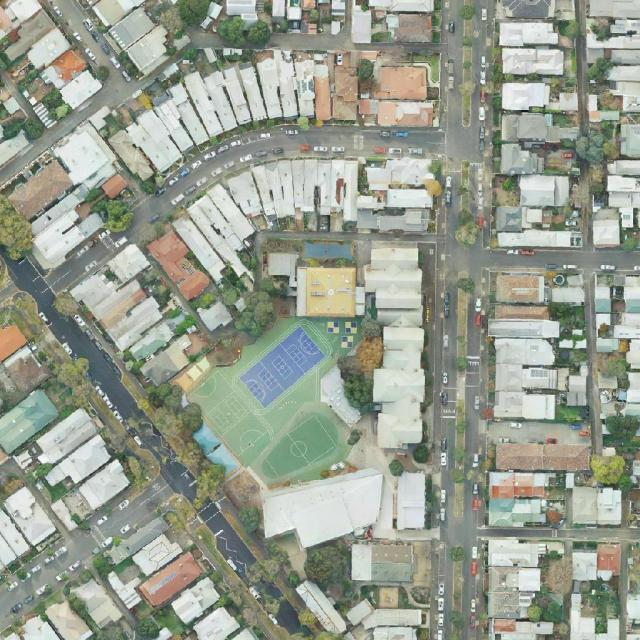building: (106, 29, 338, 182), (167, 131, 380, 289), (69, 252, 183, 370), (363, 241, 427, 448), (255, 465, 395, 557), (0, 0, 105, 120), (31, 431, 136, 533), (486, 304, 560, 419), (487, 469, 622, 528), (85, 0, 181, 81), (266, 240, 365, 317), (484, 536, 554, 640), (595, 271, 640, 418), (508, 173, 587, 249), (146, 227, 215, 304), (28, 406, 99, 470), (137, 550, 205, 611), (357, 158, 436, 210), (310, 365, 364, 434), (501, 112, 560, 174), (294, 576, 350, 640), (140, 332, 200, 390), (0, 325, 51, 393), (375, 66, 432, 126), (71, 575, 124, 632), (167, 573, 223, 626), (106, 127, 157, 185), (315, 54, 359, 121), (130, 530, 183, 578), (496, 444, 590, 471), (104, 561, 150, 610), (571, 594, 620, 640), (105, 241, 152, 287), (572, 544, 620, 581), (356, 210, 429, 234), (501, 49, 565, 76), (396, 472, 425, 530), (498, 20, 559, 46), (496, 274, 545, 303), (197, 297, 234, 334), (25, 87, 56, 130), (351, 541, 384, 581), (503, 82, 550, 110), (592, 207, 621, 248), (550, 274, 585, 304), (566, 366, 588, 407), (100, 172, 130, 201), (226, 0, 258, 27), (0, 83, 21, 116), (496, 206, 521, 231), (0, 6, 14, 38), (497, 232, 522, 246), (232, 627, 259, 639)
greenland: (138, 371, 240, 508), (329, 311, 391, 416), (196, 570, 280, 640), (113, 432, 167, 503), (244, 538, 295, 593), (232, 286, 282, 341), (301, 540, 356, 590), (0, 284, 44, 342), (88, 190, 138, 239), (0, 195, 32, 259), (582, 579, 619, 632), (55, 357, 94, 405), (586, 455, 635, 489), (217, 16, 270, 46), (547, 302, 585, 342), (94, 617, 159, 639), (38, 85, 73, 123), (583, 54, 617, 88), (575, 129, 605, 165), (534, 591, 564, 624), (217, 285, 248, 316), (4, 119, 45, 141), (188, 288, 220, 316), (61, 567, 95, 592), (237, 506, 261, 540), (149, 283, 177, 312), (132, 614, 163, 640), (89, 552, 116, 581), (32, 334, 50, 365), (555, 408, 584, 425), (559, 20, 579, 40), (524, 603, 543, 623), (314, 631, 343, 639)
metalled_road: (418, 0, 503, 640), (119, 90, 446, 230), (0, 0, 161, 216), (2, 250, 150, 428), (39, 225, 130, 297), (94, 476, 180, 549), (192, 500, 261, 581), (581, 268, 603, 455), (467, 249, 640, 270), (267, 23, 380, 52), (478, 526, 640, 541), (157, 457, 204, 503), (574, 0, 590, 134), (269, 598, 309, 639), (56, 534, 94, 573), (579, 160, 593, 246), (260, 231, 374, 241), (619, 540, 629, 639), (360, 232, 438, 242), (190, 29, 221, 48), (256, 232, 266, 284), (415, 44, 440, 49)
